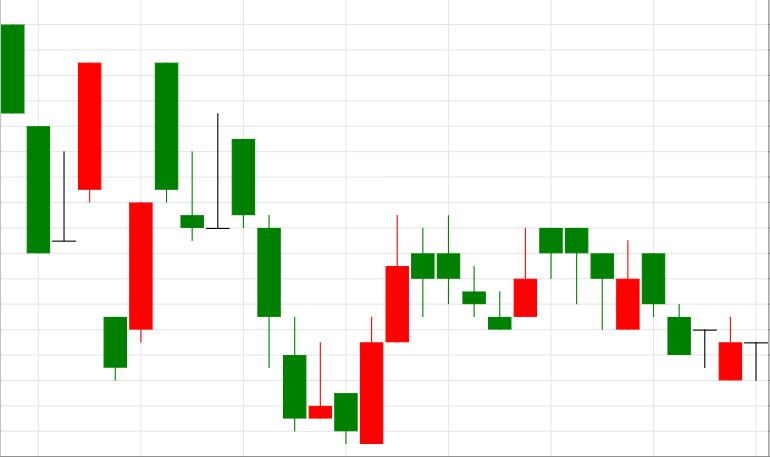bullish_engulfing_rise: (156, 63, 383, 444)
